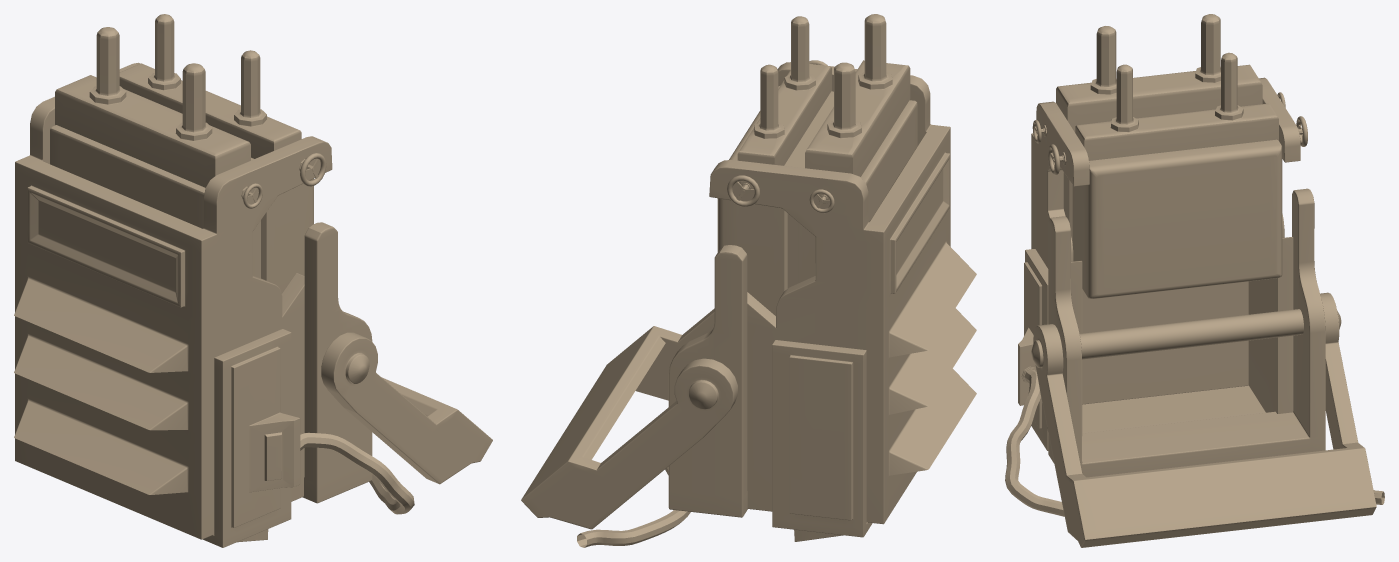
File: ModuleCnm 1.fbx
3 views of the same model, side by side, from view 1: azimuth 30°, elevation 25°; view 2: azimuth 150°, elevation 25°; view 3: azimuth 270°, elevation 25° (orthographic). The views are drawn at different scales.
Parts seen in each view (by area): view 1: polySurface428; view 2: polySurface428; view 3: polySurface428.
Part boxes in pixels (x1,y1,x2,y2): polySurface428: (14, 14, 492, 547); polySurface428: (521, 14, 976, 547); polySurface428: (1005, 14, 1384, 547).
Bounding box in the file's own units: 457 × 506 × 419.
